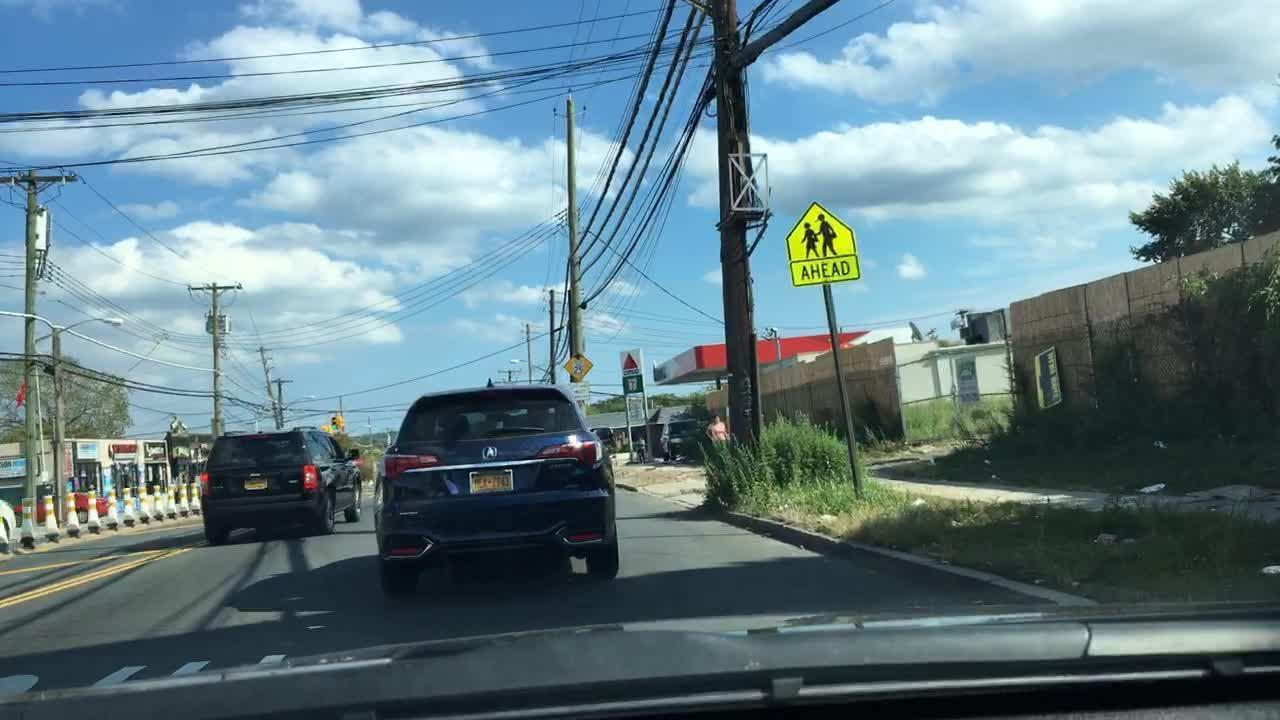acura: (476, 442, 505, 466)
jeep: (243, 468, 269, 482)
